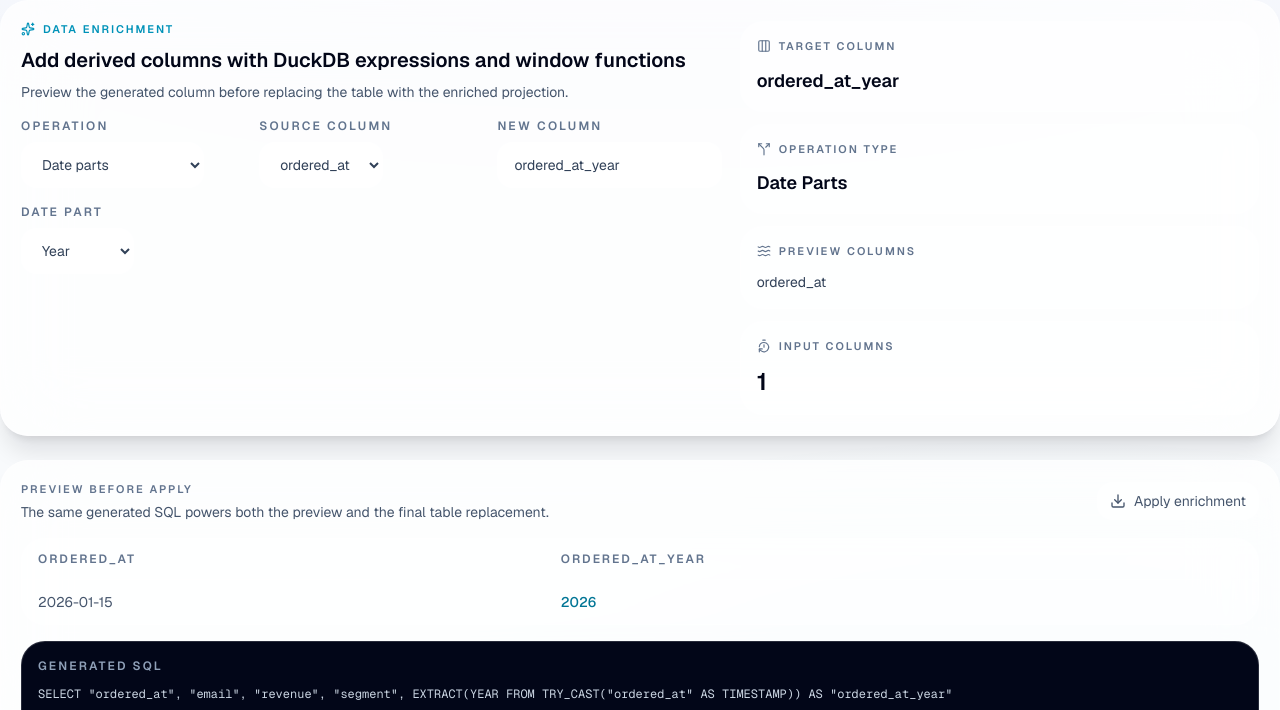
Test: DataEnrichment › switches to string domain extraction and updates the preview
Step 1. Select "String operations" in the dropdown labelled "Operation" → [112, 164], box [21,142,204,188]
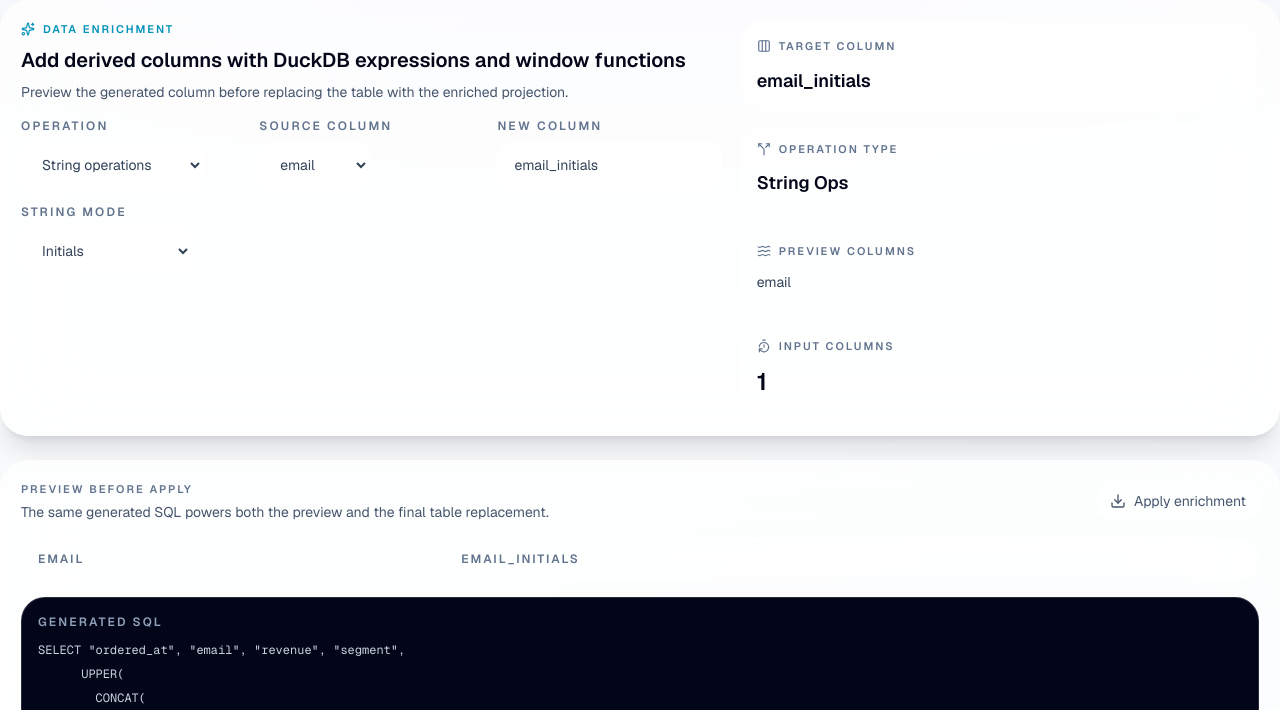
Expected: the field showing "email_initials" is shown, [497,142,722,188]
Step 2. Select "Domain extraction" in the dropdown labelled "String mode" → [106, 250], box [21,228,192,274]
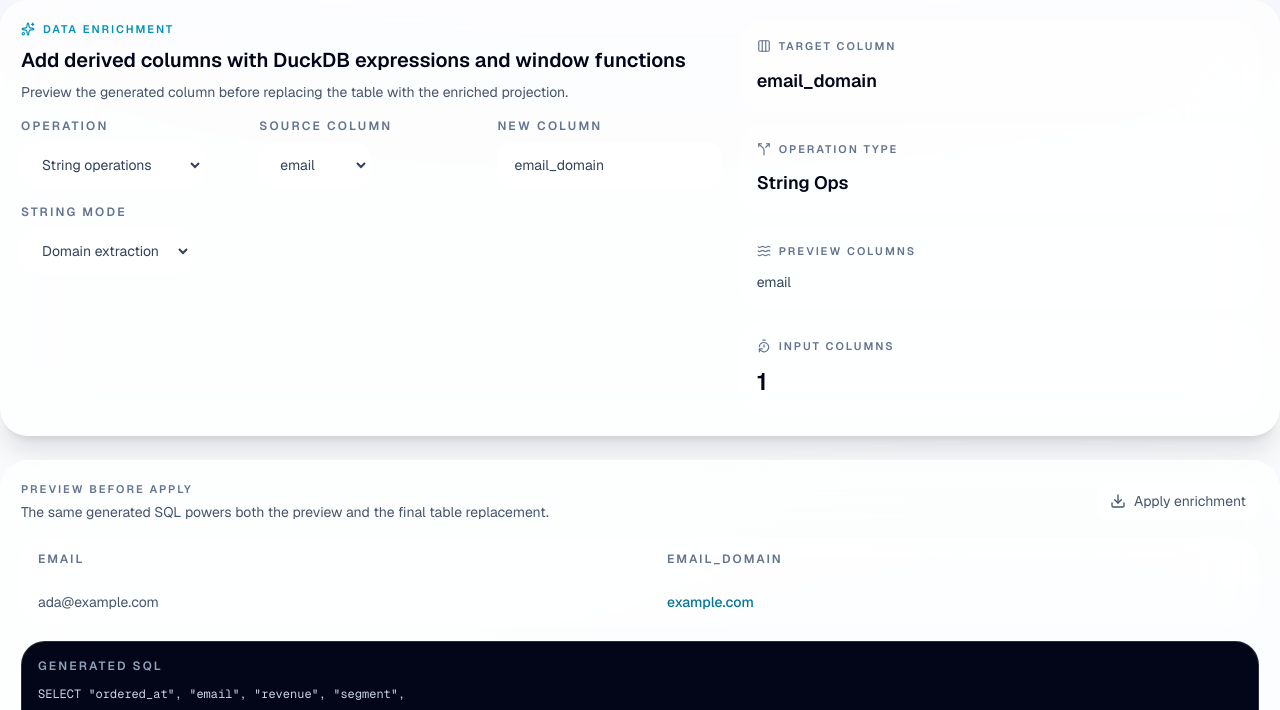
Expected: the field showing "email_domain" is shown, [497,142,722,188]
